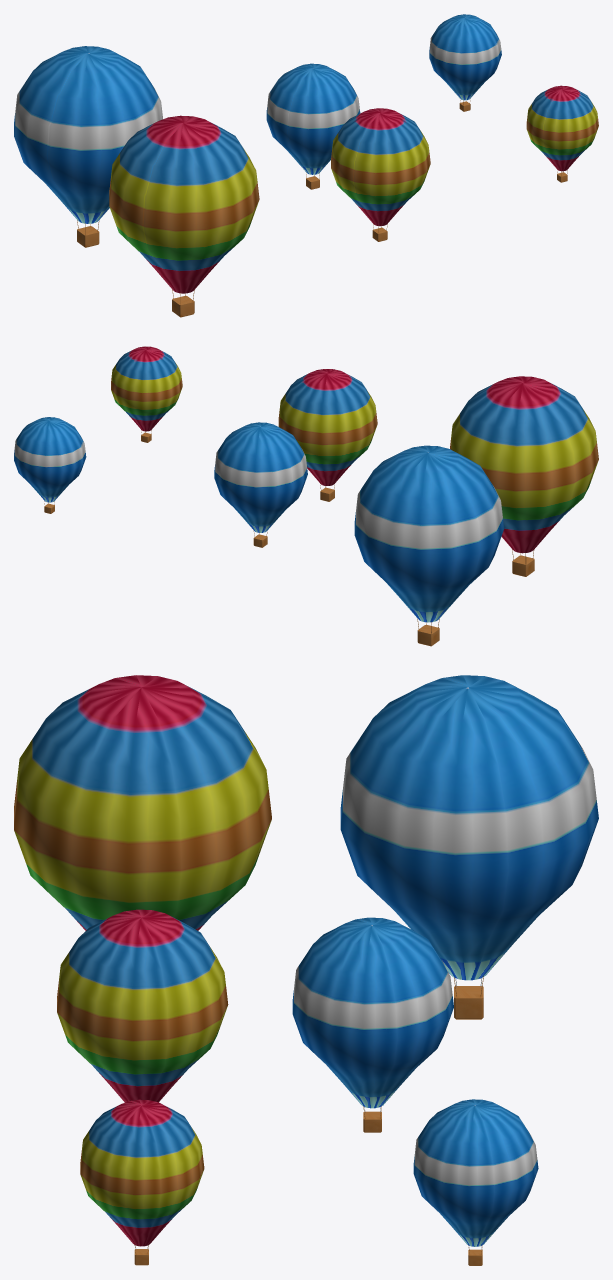
File: Baloon.FBX
3 renders of one model, top to bottom at view 1: azimuth 30°, elevation 25°; view 2: azimuth 150°, elevation 25°; view 3: azimuth 270°, elevation 25°, orthographic. The views are drawn at different scales.
Parts seen in each view (by area): view 1: Box002, Box001, Object001, Box003, Box006, Object002; view 2: Box001, Box002, Object001, Box003, Box006, Object002; view 3: Box001, Box002, Object001, Box003, Box006, Object002.
Boxes of the visible parts, x1=… form: Box002: x1=109, y1=115, x2=259, y2=317; Box001: x1=14, y1=46, x2=162, y2=247; Object001: x1=331, y1=108, x2=430, y2=241; Box003: x1=266, y1=63, x2=360, y2=189; Box006: x1=429, y1=14, x2=501, y2=111; Object002: x1=526, y1=85, x2=598, y2=182; Box001: x1=354, y1=445, x2=504, y2=646; Box002: x1=450, y1=376, x2=598, y2=576; Object001: x1=278, y1=369, x2=377, y2=501; Box003: x1=214, y1=422, x2=307, y2=547; Box006: x1=14, y1=417, x2=86, y2=513; Object002: x1=111, y1=346, x2=182, y2=442; Box001: x1=340, y1=675, x2=598, y2=1019; Box002: x1=14, y1=675, x2=271, y2=930; Object001: x1=57, y1=909, x2=228, y2=1102; Box003: x1=292, y1=917, x2=453, y2=1132; Box006: x1=413, y1=1099, x2=538, y2=1265; Object002: x1=80, y1=1099, x2=204, y2=1265.
Bounding box in the file's own units: 799 × 305 × 495.
